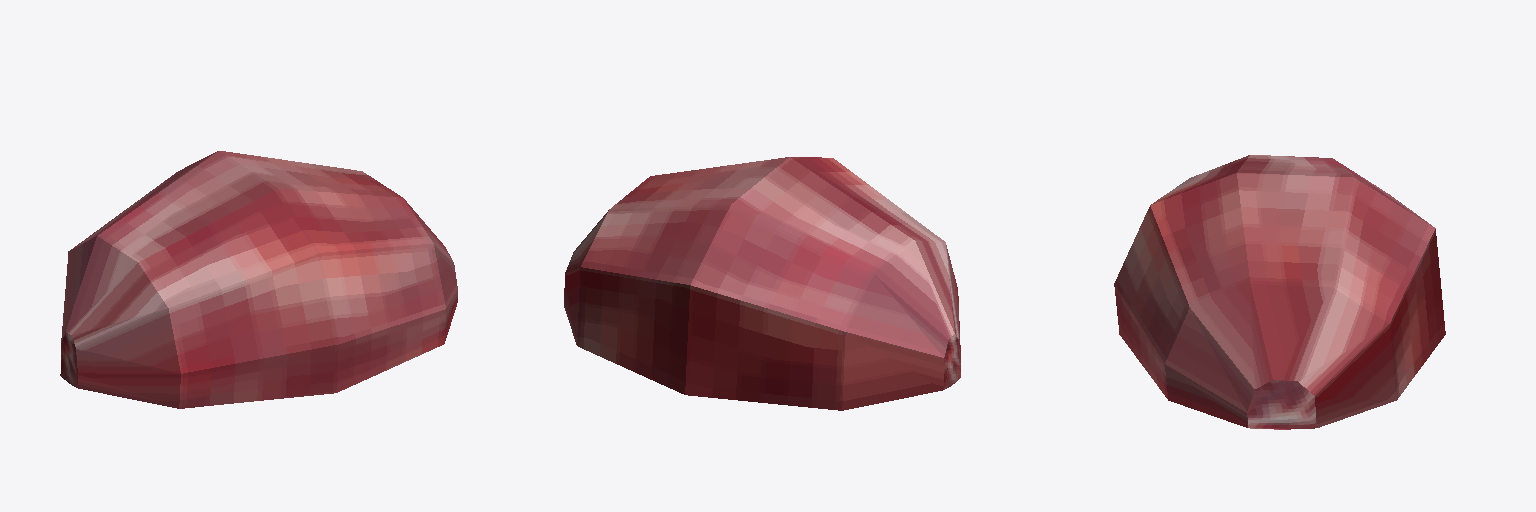
The picture shows the model from 3 angles: view 1: azimuth 30°, elevation 25°; view 2: azimuth 150°, elevation 25°; view 3: azimuth 270°, elevation 25°; orthographic projection.
Parts seen in each view (by area): view 1: Cylinder; view 2: Cylinder; view 3: Cylinder.
Part boxes in pixels (x1,y1,x2,y2): Cylinder: (60,151,457,408); Cylinder: (564,157,960,410); Cylinder: (1114,155,1445,429).
Bounding box in the file's own units: 2.8 × 1.2 × 2.17.
Materials: 1 (1 with a texture image).